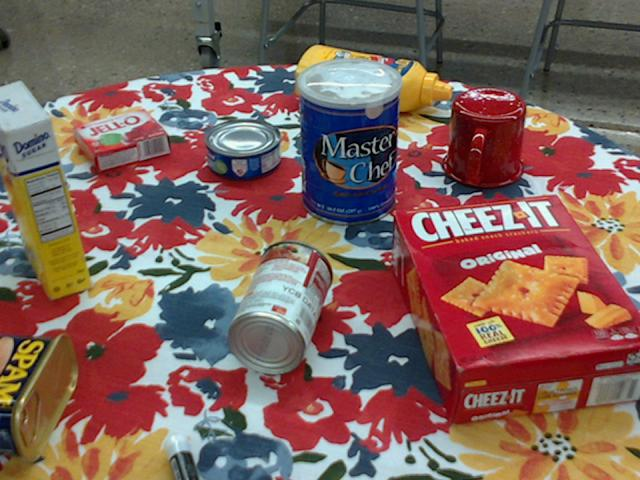cracker_box: (390, 195, 639, 426)
gelatin_box: (73, 111, 168, 174)
large_marker: (163, 433, 198, 479)
master_chef_can: (298, 58, 402, 226)
mug: (440, 89, 526, 189)
mustard_bottle: (293, 45, 450, 111)
potted_meat_can: (0, 332, 77, 459)
sugar_box: (0, 79, 90, 299)
tomato_soup_can: (227, 240, 331, 375)
tuna_fish_can: (203, 119, 279, 180)
